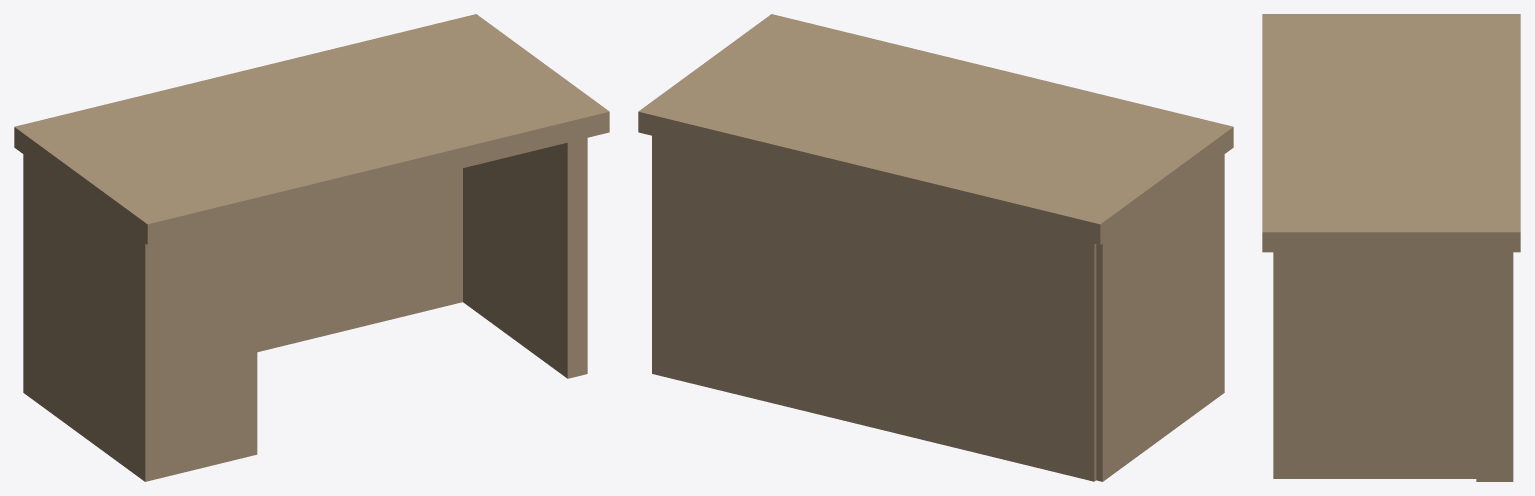
File: mov_45b571619c.gltf
3 renders of one model, left to right at view 1: azimuth 30°, elevation 25°; view 2: azimuth 150°, elevation 25°; view 3: azimuth 270°, elevation 25°, orthographic. The views are drawn at different scales.
Visible parts, largest first — view 1: mov_45b571619c; view 2: mov_45b571619c; view 3: mov_45b571619c.
Boxes of the visible parts, box(x1,y1,x2,y2) form: mov_45b571619c: box(14, 14, 609, 481); mov_45b571619c: box(638, 14, 1233, 481); mov_45b571619c: box(1262, 14, 1520, 481).
Bounding box in the file's own units: 1.4 × 0.76 × 0.7.
